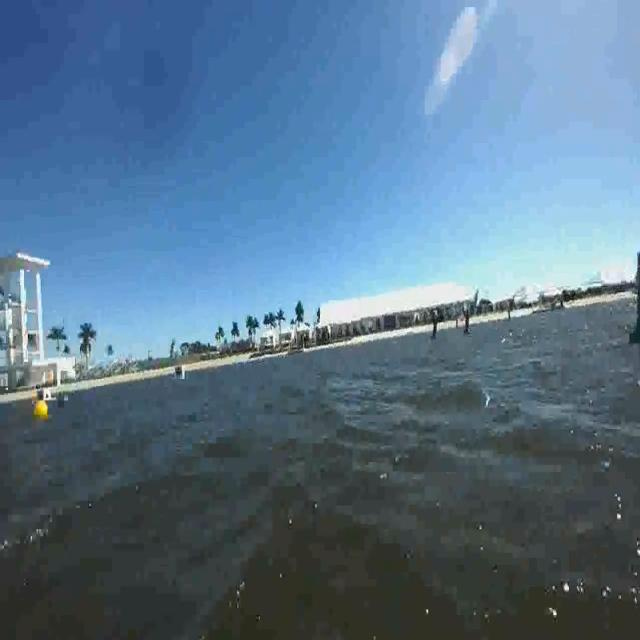yellow-buoy: (34, 400, 49, 422)
